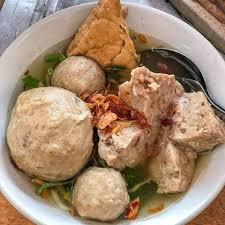Bakso besar: (97, 66, 225, 195), (7, 87, 95, 180)
Bakso sedang: (73, 167, 128, 220), (52, 55, 106, 94)
Tahu goreng: (65, 1, 144, 67)
